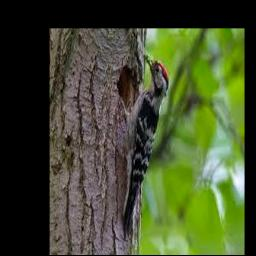Woodpecker: (117, 53, 168, 238)
